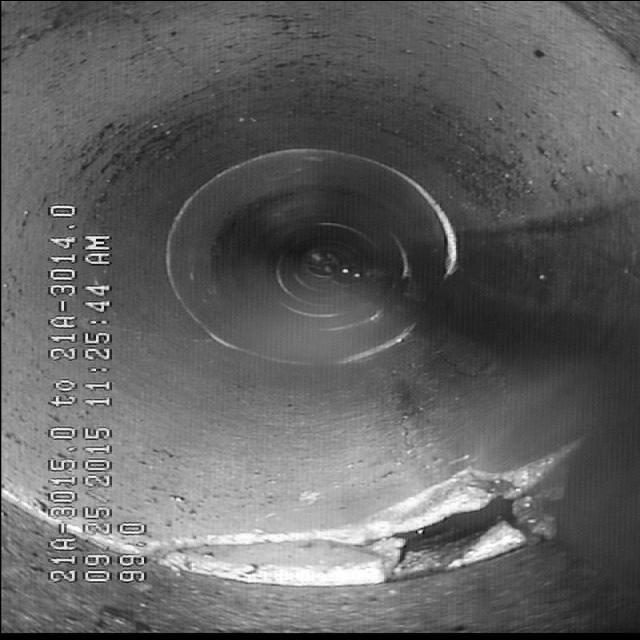Fracture: (212, 438, 560, 610)
